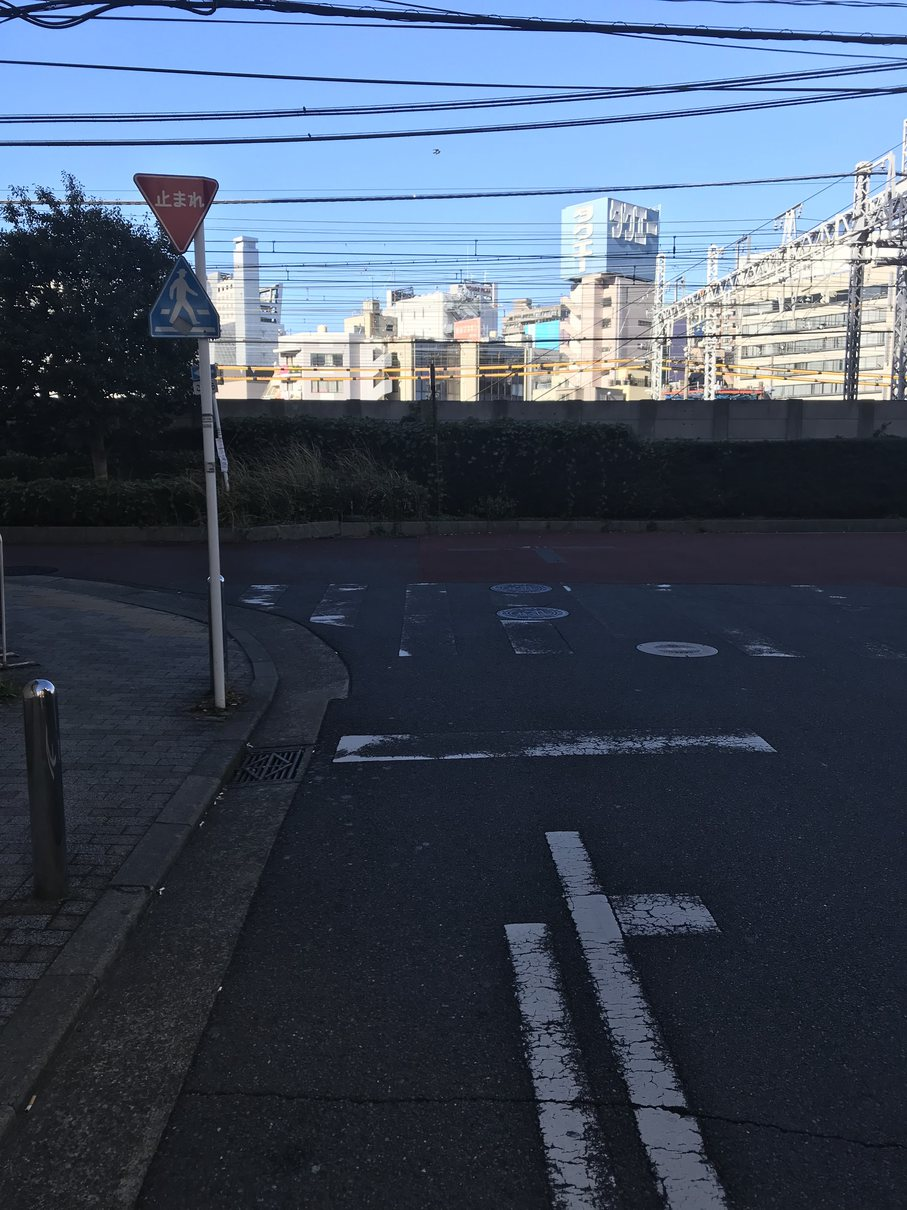stop_sign: (132, 168, 219, 255)
